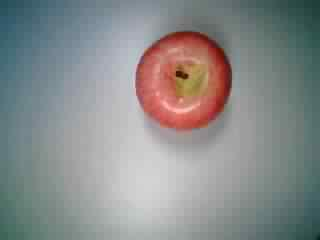apple: (131, 29, 236, 131)
